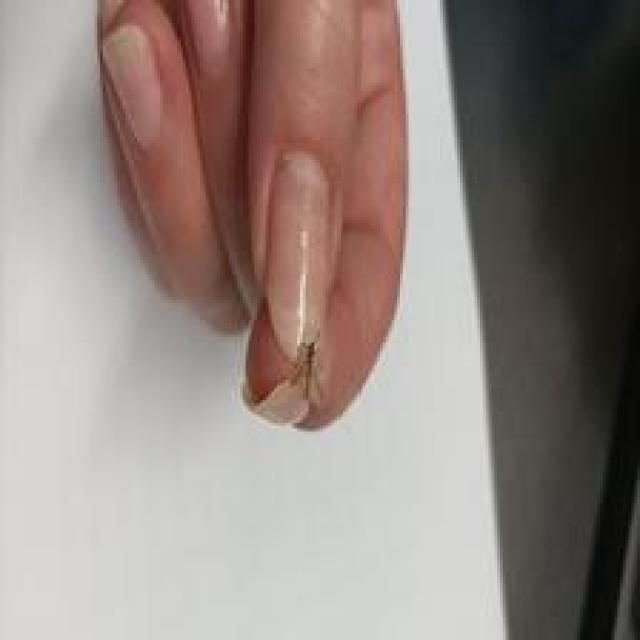Culex: (96, 0, 413, 431)
